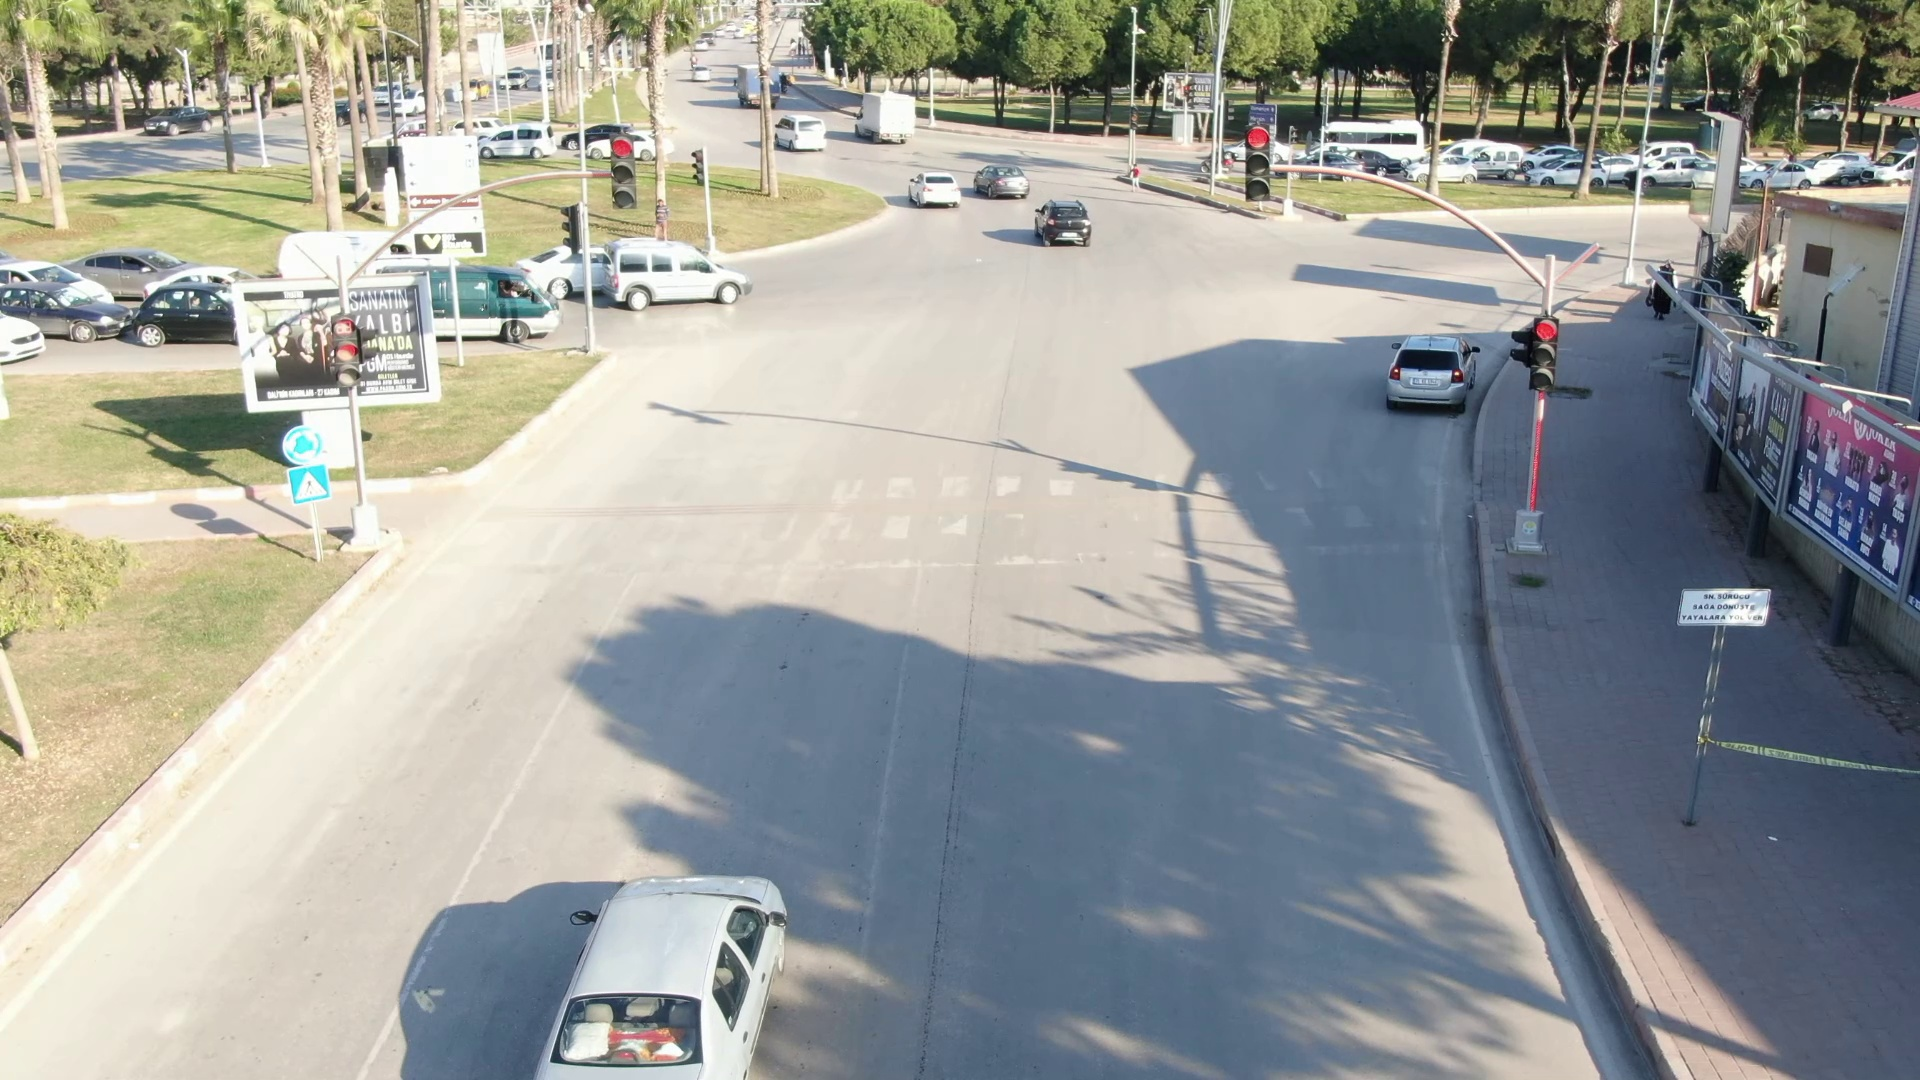car: (504, 825, 872, 1080), (1369, 314, 1484, 429), (596, 233, 760, 314), (1015, 190, 1109, 255), (844, 86, 924, 144), (897, 162, 971, 219), (766, 103, 836, 156), (963, 156, 1030, 207)
